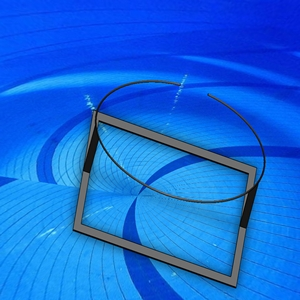circle: (72, 79, 267, 290)
